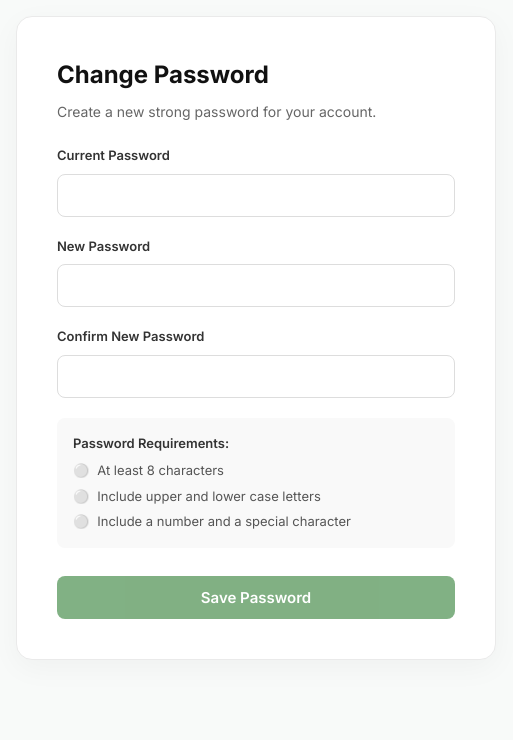
Scenario: ChangePassword › shows error if new passwords do not match
Step 1. Type "OldPass123!" into the password field labelled "Current Password" → (256, 195), box [57,174,455,216]
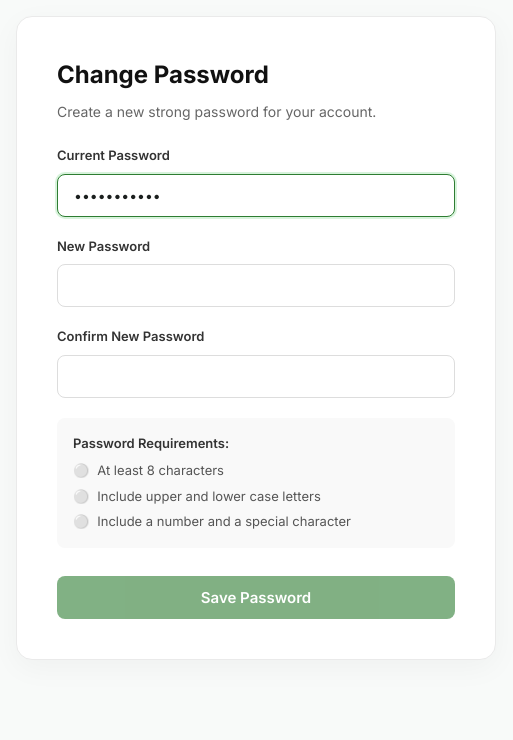
Step 2. Type "NewPass123!" into the password field labelled "New Password" → (256, 286), box [57,264,455,307]
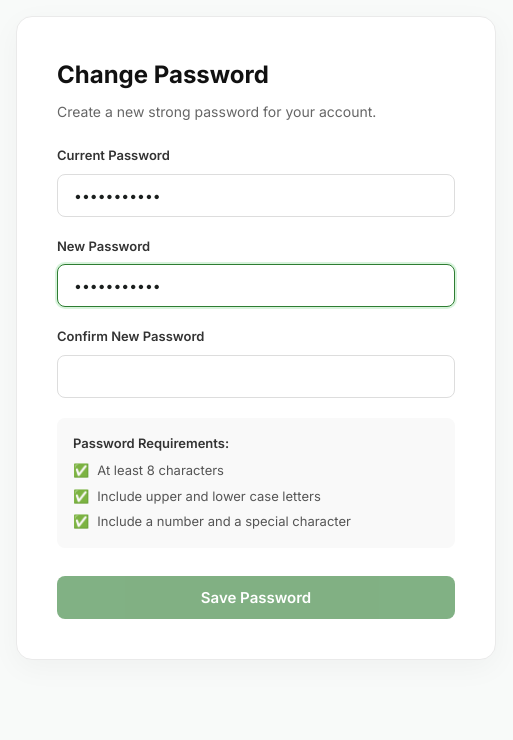
Step 3. Type "DiffPass123!" into the password field labelled "Confirm New Password" → (256, 376), box [57,354,455,398]
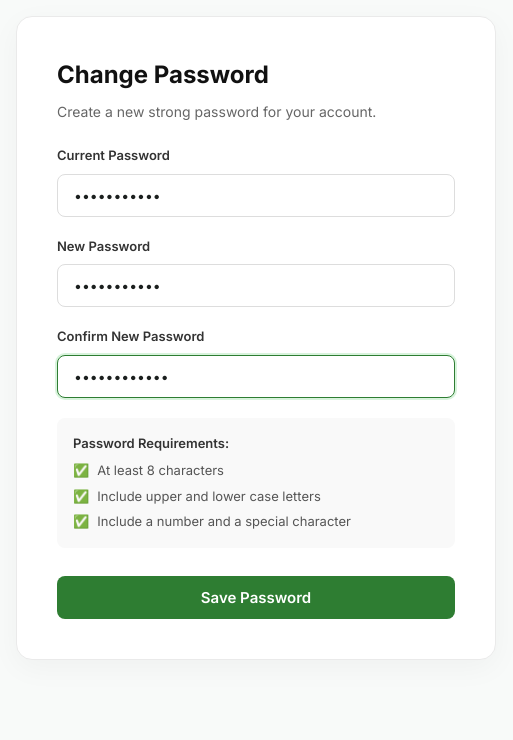
Step 4. Click the button "Save Password" → (256, 597), box [57,576,455,618]
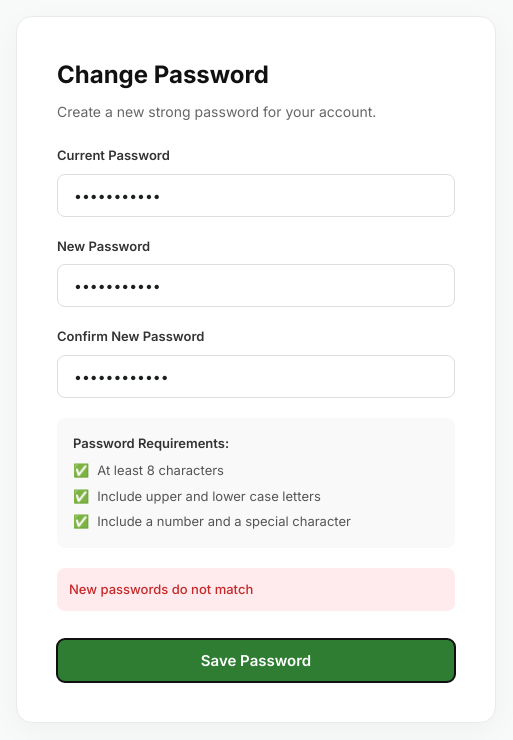
Check: the text "New passwords do not match" is shown, box [57,568,455,611]
